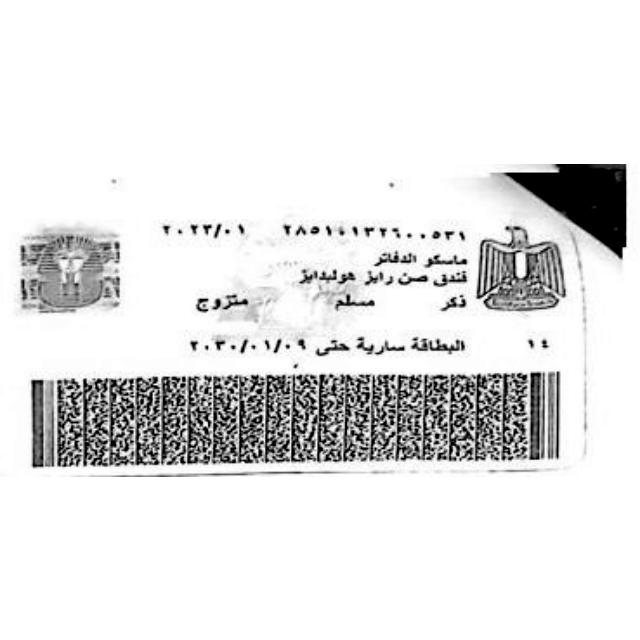id_card: (0, 172, 619, 475)
